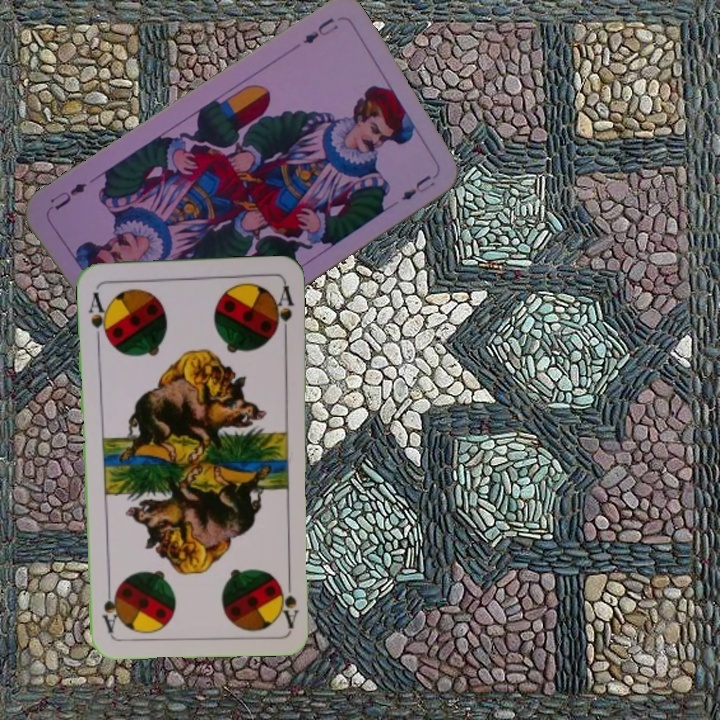EU: (299, 14, 341, 47)
SA: (85, 288, 112, 344), (277, 570, 301, 629)
